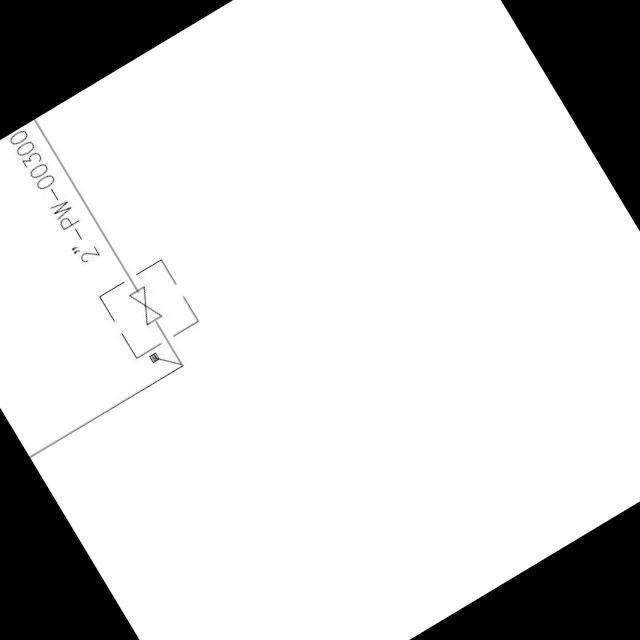GV: (122, 278, 170, 334)
